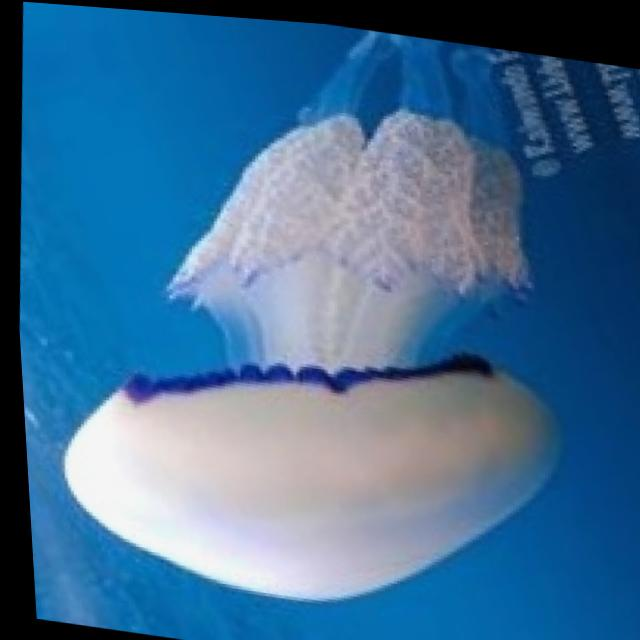Box-jellyfish: (36, 290, 572, 630)
